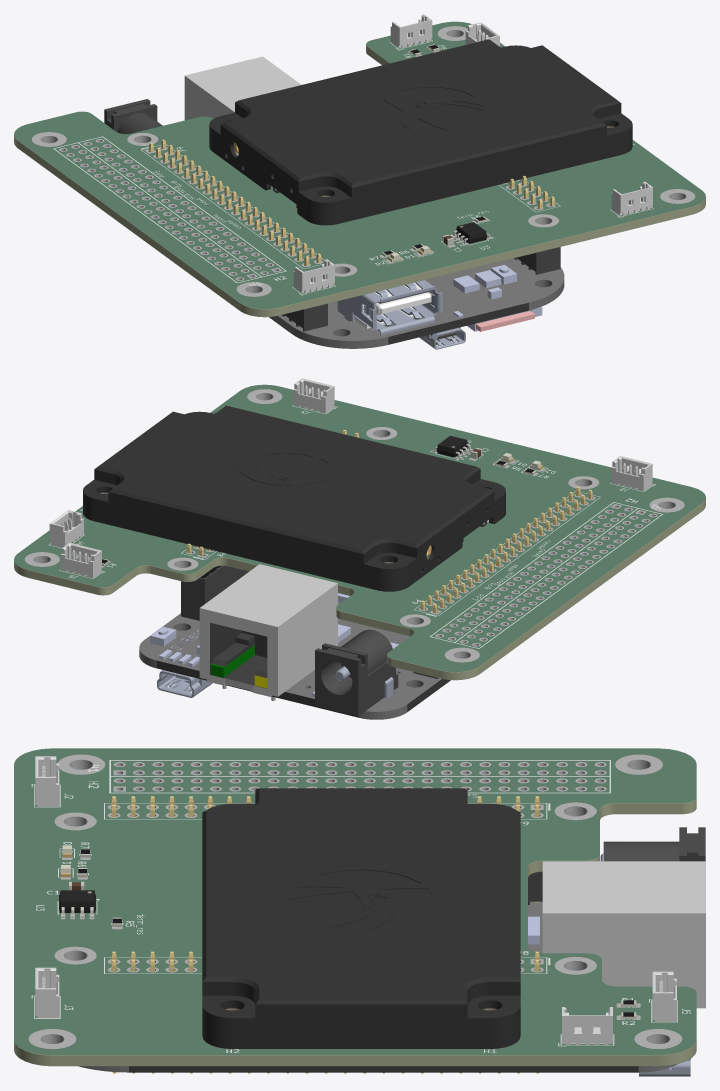
The model's file is board.glb.
The picture shows the model from 3 angles, top to bottom: view 1: azimuth 30°, elevation 25°; view 2: azimuth 150°, elevation 25°; view 3: azimuth 270°, elevation 25°; orthographic projection. The views are drawn at different scales.
Visible parts, largest first — view 1: cover_CELESTE_GNSS_RX_V2, =>[0:1:1:59], =>[0:1:1:61], =>[0:1:1:15], =>[0:1:1:57], =>0:1:1:4 (×4), =>[0:1:1:17], =>[0:1:1:58], =>[0:1:1:60], =>[0:1:1:13]; view 2: cover_CELESTE_GNSS_RX_V2, =>[0:1:1:59], =>[0:1:1:61], =>[0:1:1:15], =>[0:1:1:57], =>0:1:1:4 (×4), =>[0:1:1:17], =>[0:1:1:58], =>[0:1:1:13]; view 3: =>[0:1:1:59], =>[0:1:1:61], cover_CELESTE_GNSS_RX_V2, =>[0:1:1:15], =>[0:1:1:57], =>0:1:1:4 (×4), =>[0:1:1:58], =>[0:1:1:17] (×2), =>[0:1:1:13], =>[0:1:1:60].
Part boxes in pixels (left/top/right/bottom): cover_CELESTE_GNSS_RX_V2: left=209, top=39, right=632, bottom=225; =>[0:1:1:59]: left=14, top=21, right=705, bottom=308; =>[0:1:1:61]: left=14, top=22, right=705, bottom=316; =>[0:1:1:15]: left=104, top=56, right=564, bottom=349; =>[0:1:1:57]: left=31, top=26, right=695, bottom=296; =>0:1:1:4 (×4): left=293, top=14, right=652, bottom=293; =>[0:1:1:17]: left=149, top=139, right=321, bottom=265; =>[0:1:1:58]: left=53, top=40, right=653, bottom=295; =>[0:1:1:60]: left=15, top=53, right=704, bottom=317; =>[0:1:1:13]: left=451, top=222, right=491, bottom=245; cover_CELESTE_GNSS_RX_V2: left=83, top=405, right=505, bottom=591; =>[0:1:1:59]: left=14, top=384, right=705, bottom=672; =>[0:1:1:61]: left=14, top=385, right=705, bottom=679; =>[0:1:1:15]: left=139, top=564, right=450, bottom=719; =>[0:1:1:57]: left=24, top=389, right=684, bottom=662; =>0:1:1:4 (×4): left=49, top=378, right=652, bottom=578; =>[0:1:1:17]: left=420, top=487, right=592, bottom=613; =>[0:1:1:58]: left=49, top=405, right=662, bottom=648; =>[0:1:1:13]: left=432, top=436, right=472, bottom=458; =>[0:1:1:59]: left=14, top=748, right=696, bottom=1055; =>[0:1:1:61]: left=14, top=749, right=696, bottom=1065; cover_CELESTE_GNSS_RX_V2: left=202, top=788, right=520, bottom=1048; =>[0:1:1:15]: left=78, top=827, right=705, bottom=1076; =>[0:1:1:57]: left=28, top=754, right=682, bottom=1049; =>0:1:1:4 (×4): left=35, top=756, right=676, bottom=1044; =>[0:1:1:58]: left=31, top=760, right=690, bottom=1052; =>[0:1:1:17] (×2): left=111, top=796, right=539, bottom=971; =>[0:1:1:13]: left=59, top=890, right=95, bottom=917; =>[0:1:1:60]: left=14, top=810, right=696, bottom=1066.
Size of the model in its own units: 0.0959 by 0.0253 by 0.0914.
